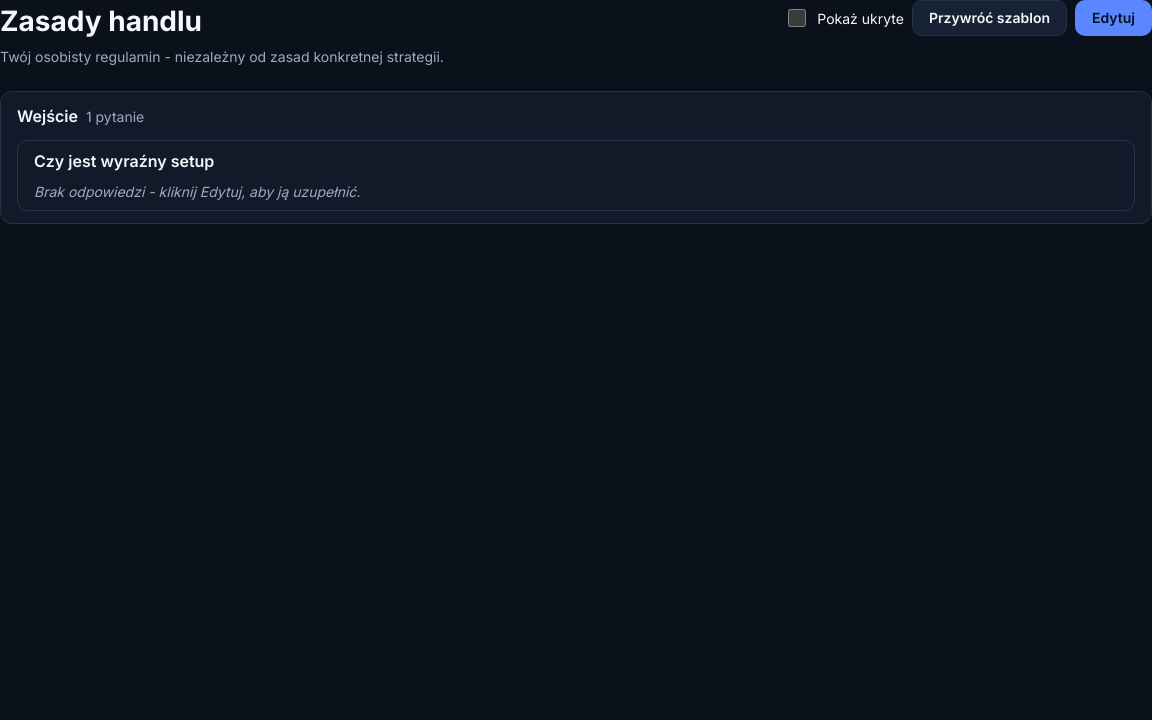
it: ZasadyHandluPage › PODOBNE pytanie: potwierdzenie scalenia blokuje dodanie, anulowanie POZWALA dodać mimo podobieństwa
Step 1. Click the button "Edytuj" → {"x": 1114, "y": 18}, box 1075,0 -> 1151,36
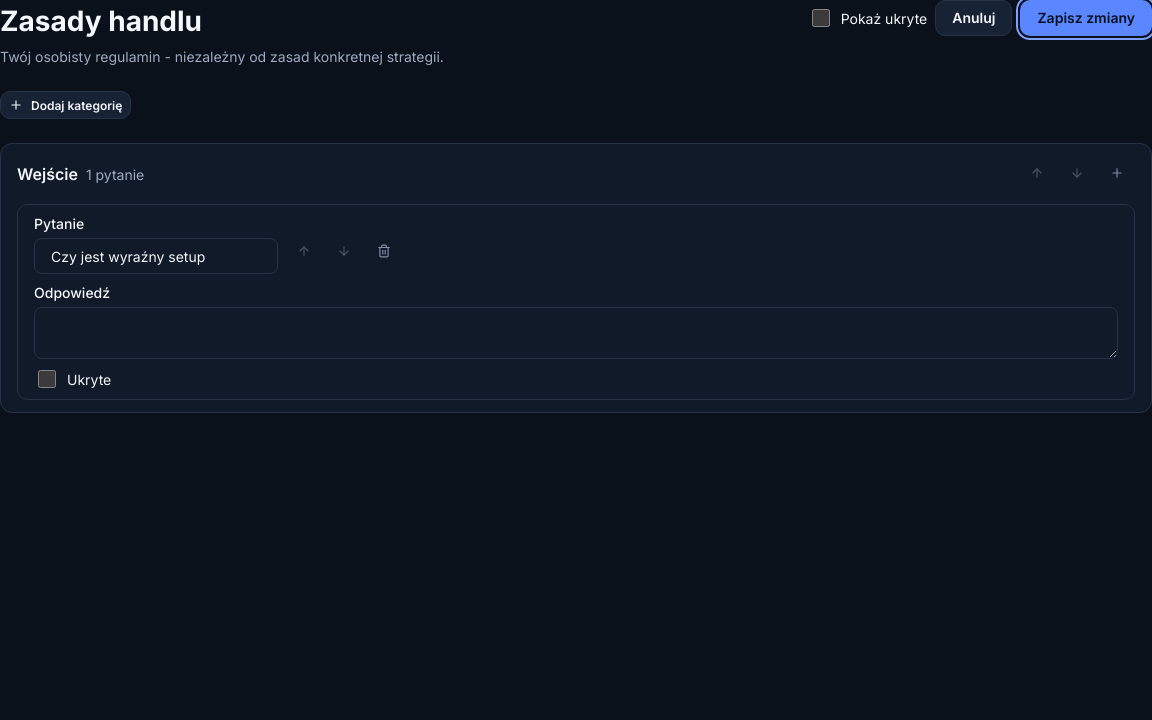
Step 2. Click the button named "Dodaj pytanie: Wejście" → {"x": 1117, "y": 174}, box 1099,156 -> 1135,192
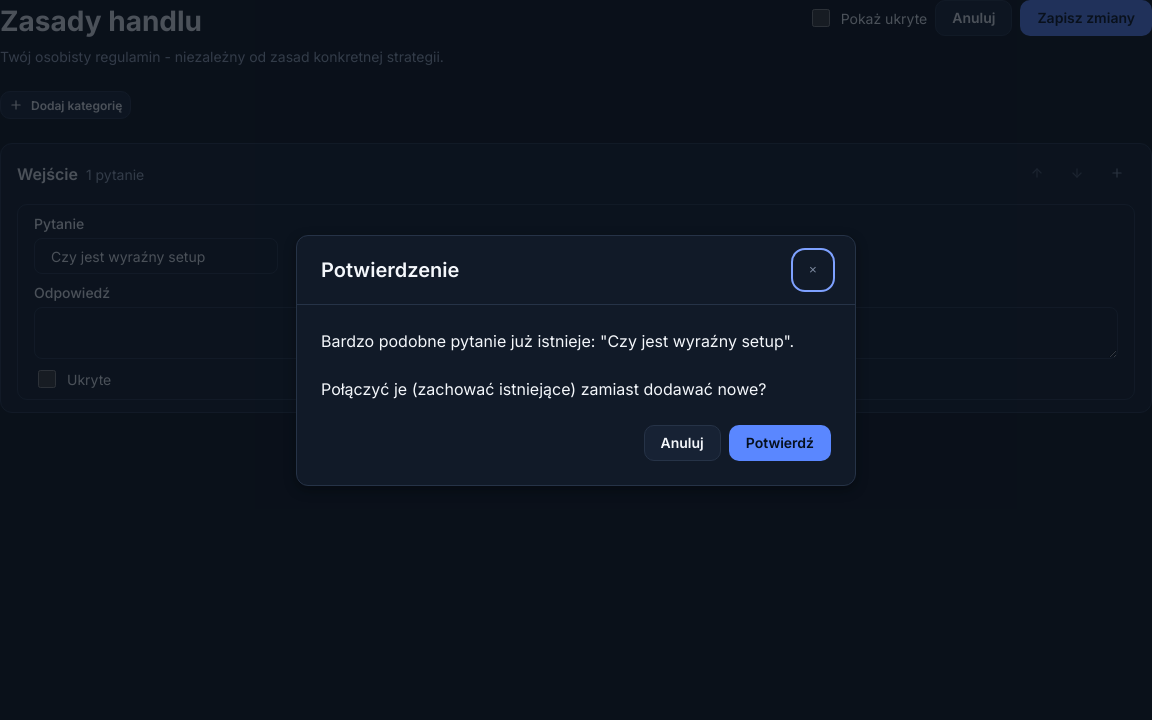
Result: the dialog is shown at 296,234 -> 856,486
Step 3. Click the button "Potwierdź" → {"x": 780, "y": 442}, box 729,424 -> 831,460
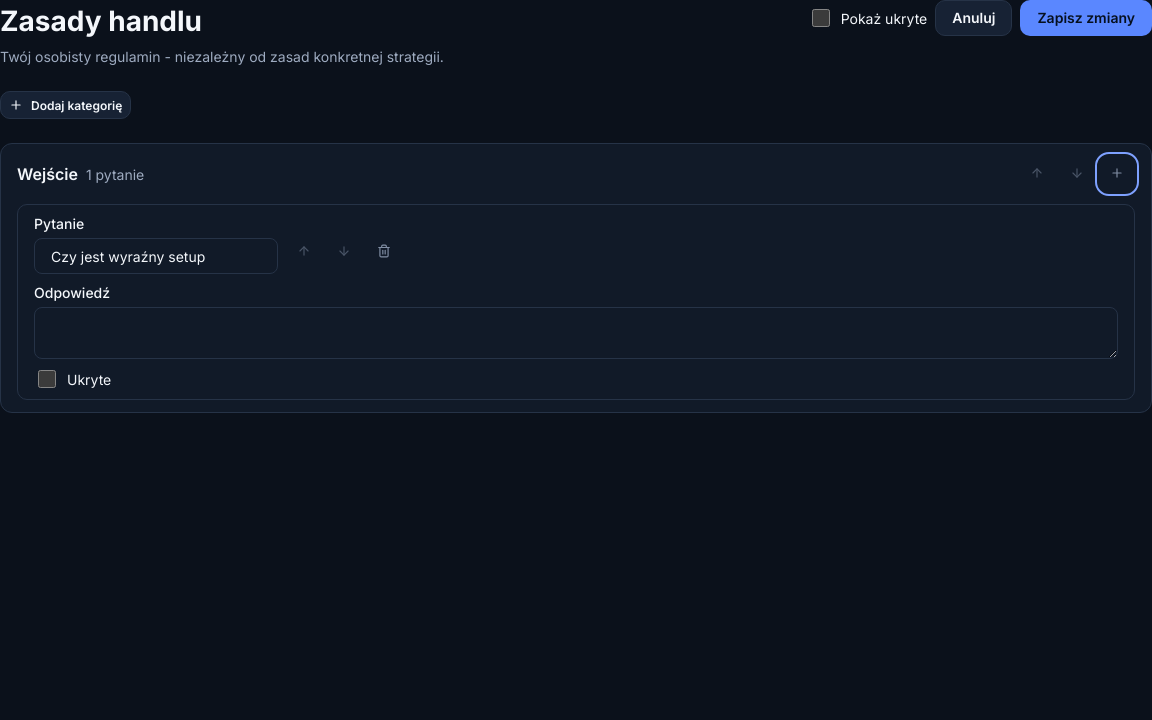
Expected: the field showing "Czy jest wyraźny setup na D1" is not shown
Step 4. Click the button named "Dodaj pytanie: Wejście" → {"x": 1117, "y": 174}, box 1099,156 -> 1135,192
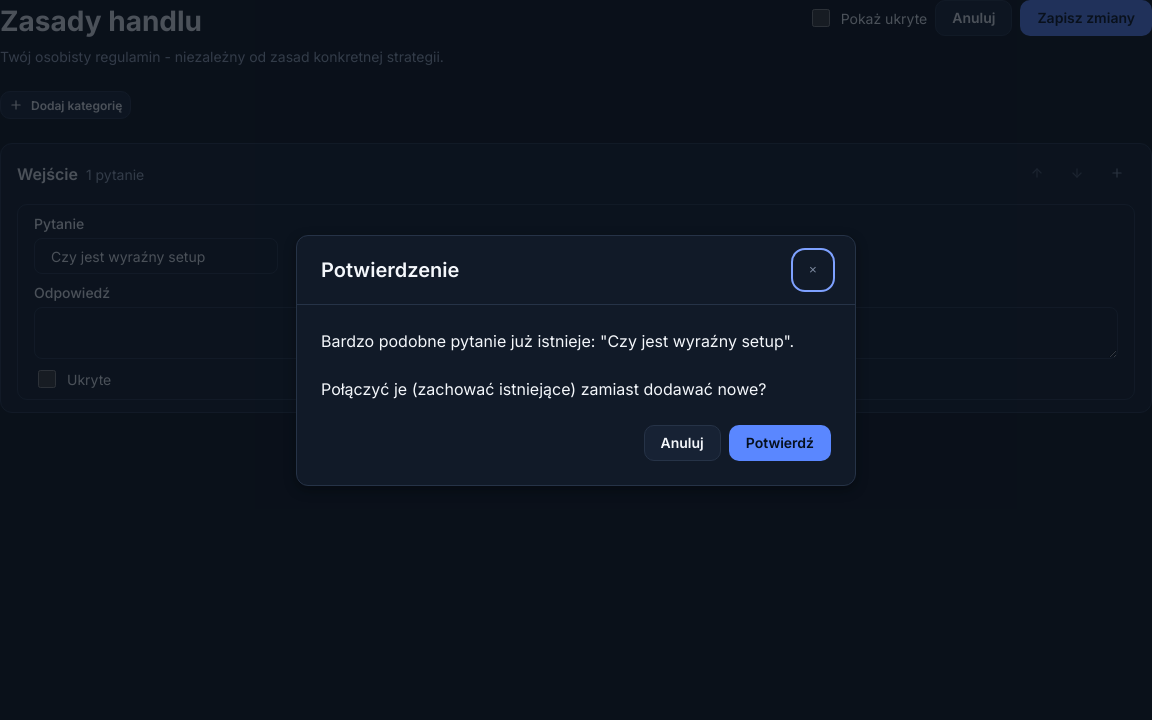
Result: the dialog is shown at 296,234 -> 856,486
Step 5. Click the button "Anuluj" → {"x": 682, "y": 442}, box 644,424 -> 721,460
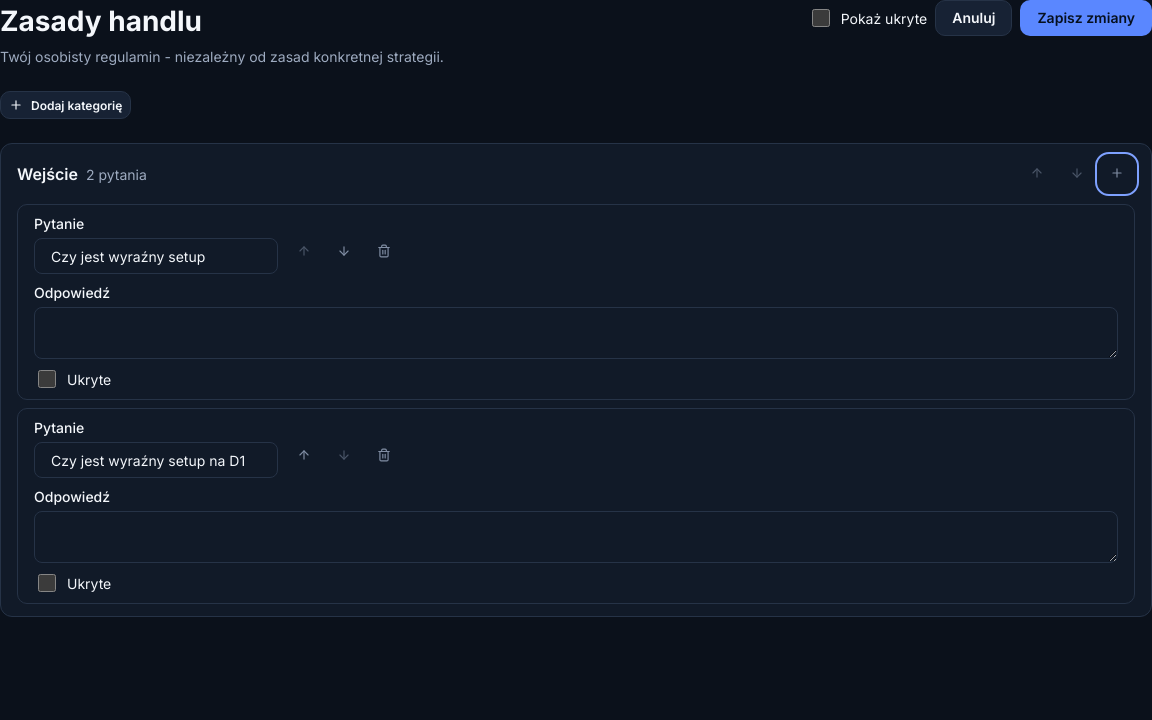
Result: the 2nd field showing "Czy jest wyraźny setup na D1" is shown at 34,442 -> 278,478
